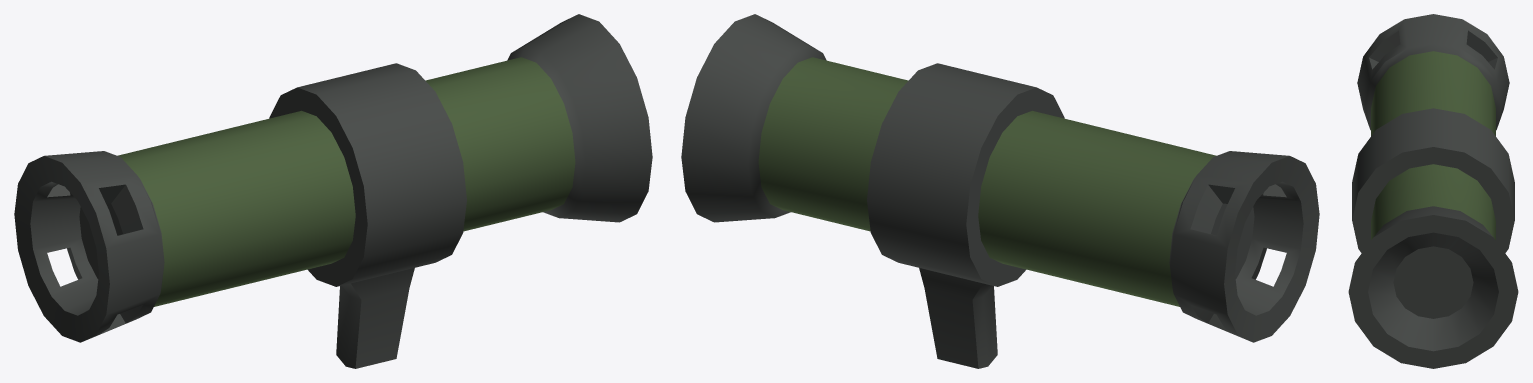
File: Bazooka.fbx
The picture shows the model from 3 angles, left to right: view 1: azimuth 30°, elevation 25°; view 2: azimuth 150°, elevation 25°; view 3: azimuth 270°, elevation 25°; orthographic projection. The views are drawn at different scales.
Parts seen in each view (by area): view 1: pCylinder1; view 2: pCylinder1; view 3: pCylinder1.
Part boxes in pixels (x1,y1,x2,y2): pCylinder1: (14, 14, 652, 368); pCylinder1: (681, 14, 1319, 368); pCylinder1: (1348, 14, 1518, 368).
Bounding box in the file's own units: 7.93 × 3.99 × 2.73.
